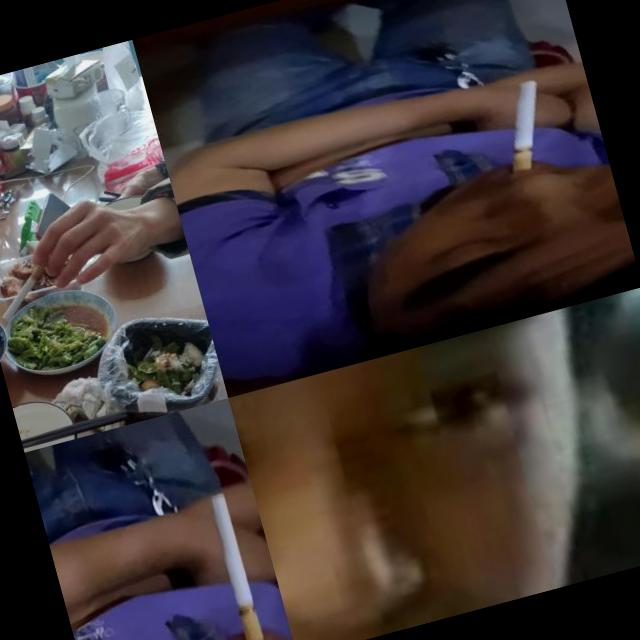cigarette: (207, 491, 266, 640), (492, 80, 556, 172), (0, 251, 65, 322)
